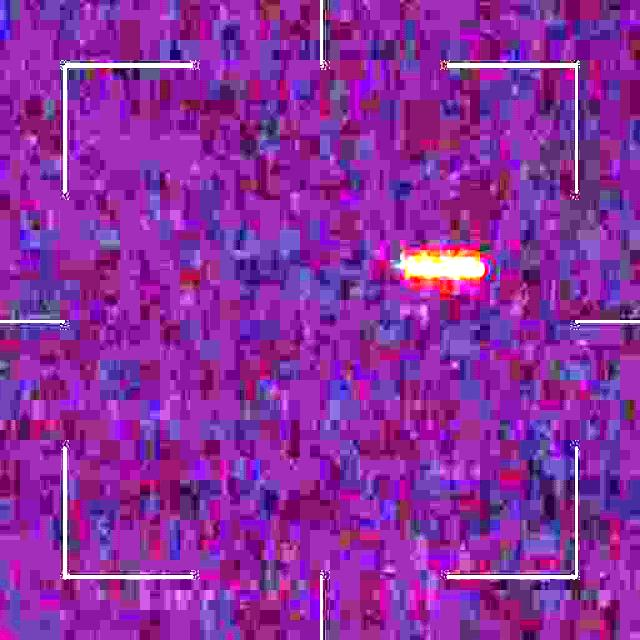bird: (400, 255, 488, 289)
